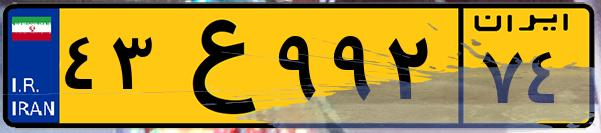2: (385, 28, 445, 110)
3: (110, 28, 158, 98)
4: (57, 26, 110, 100), (525, 38, 570, 115)
7: (475, 38, 525, 113)
9: (270, 28, 330, 110), (330, 28, 385, 110)
ع: (158, 12, 270, 120)
